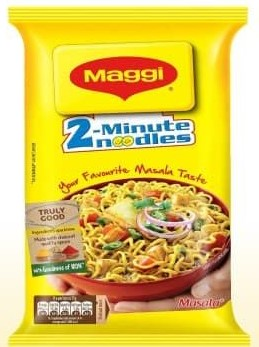maggi: (5, 5, 252, 345)
